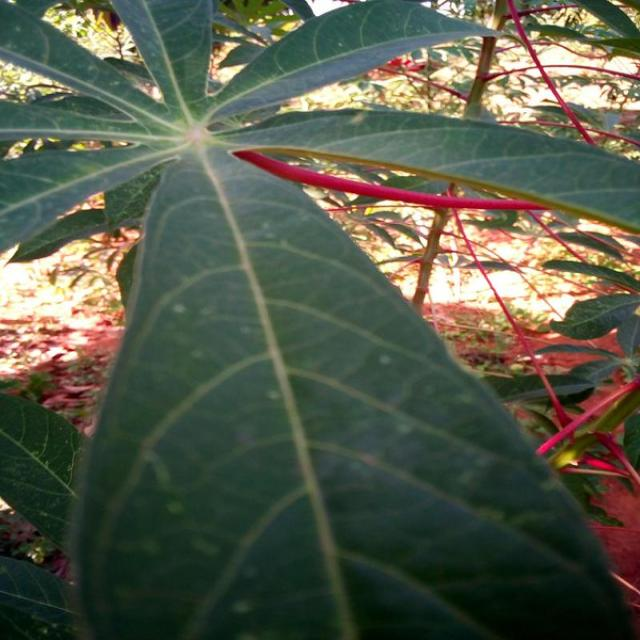cassava leaf: (68, 143, 634, 638)
